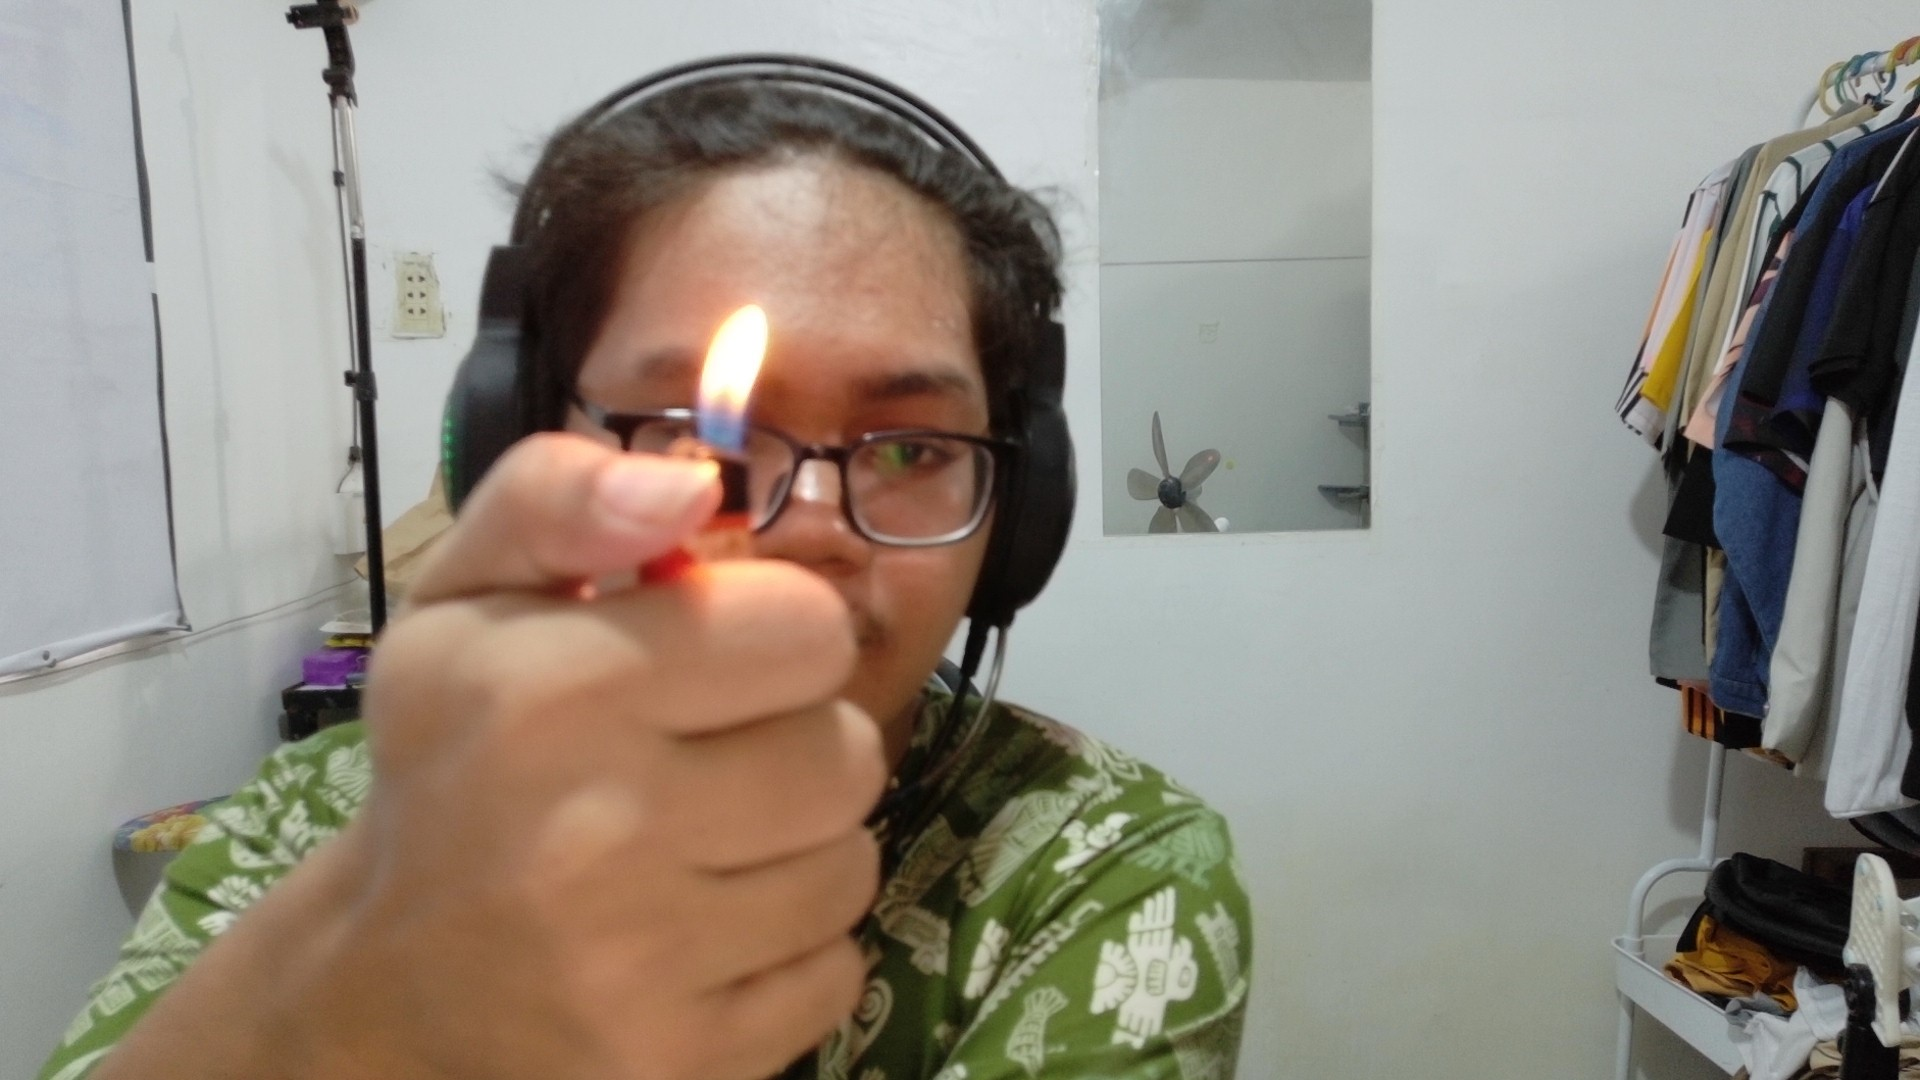fire: (617, 268, 817, 527)
